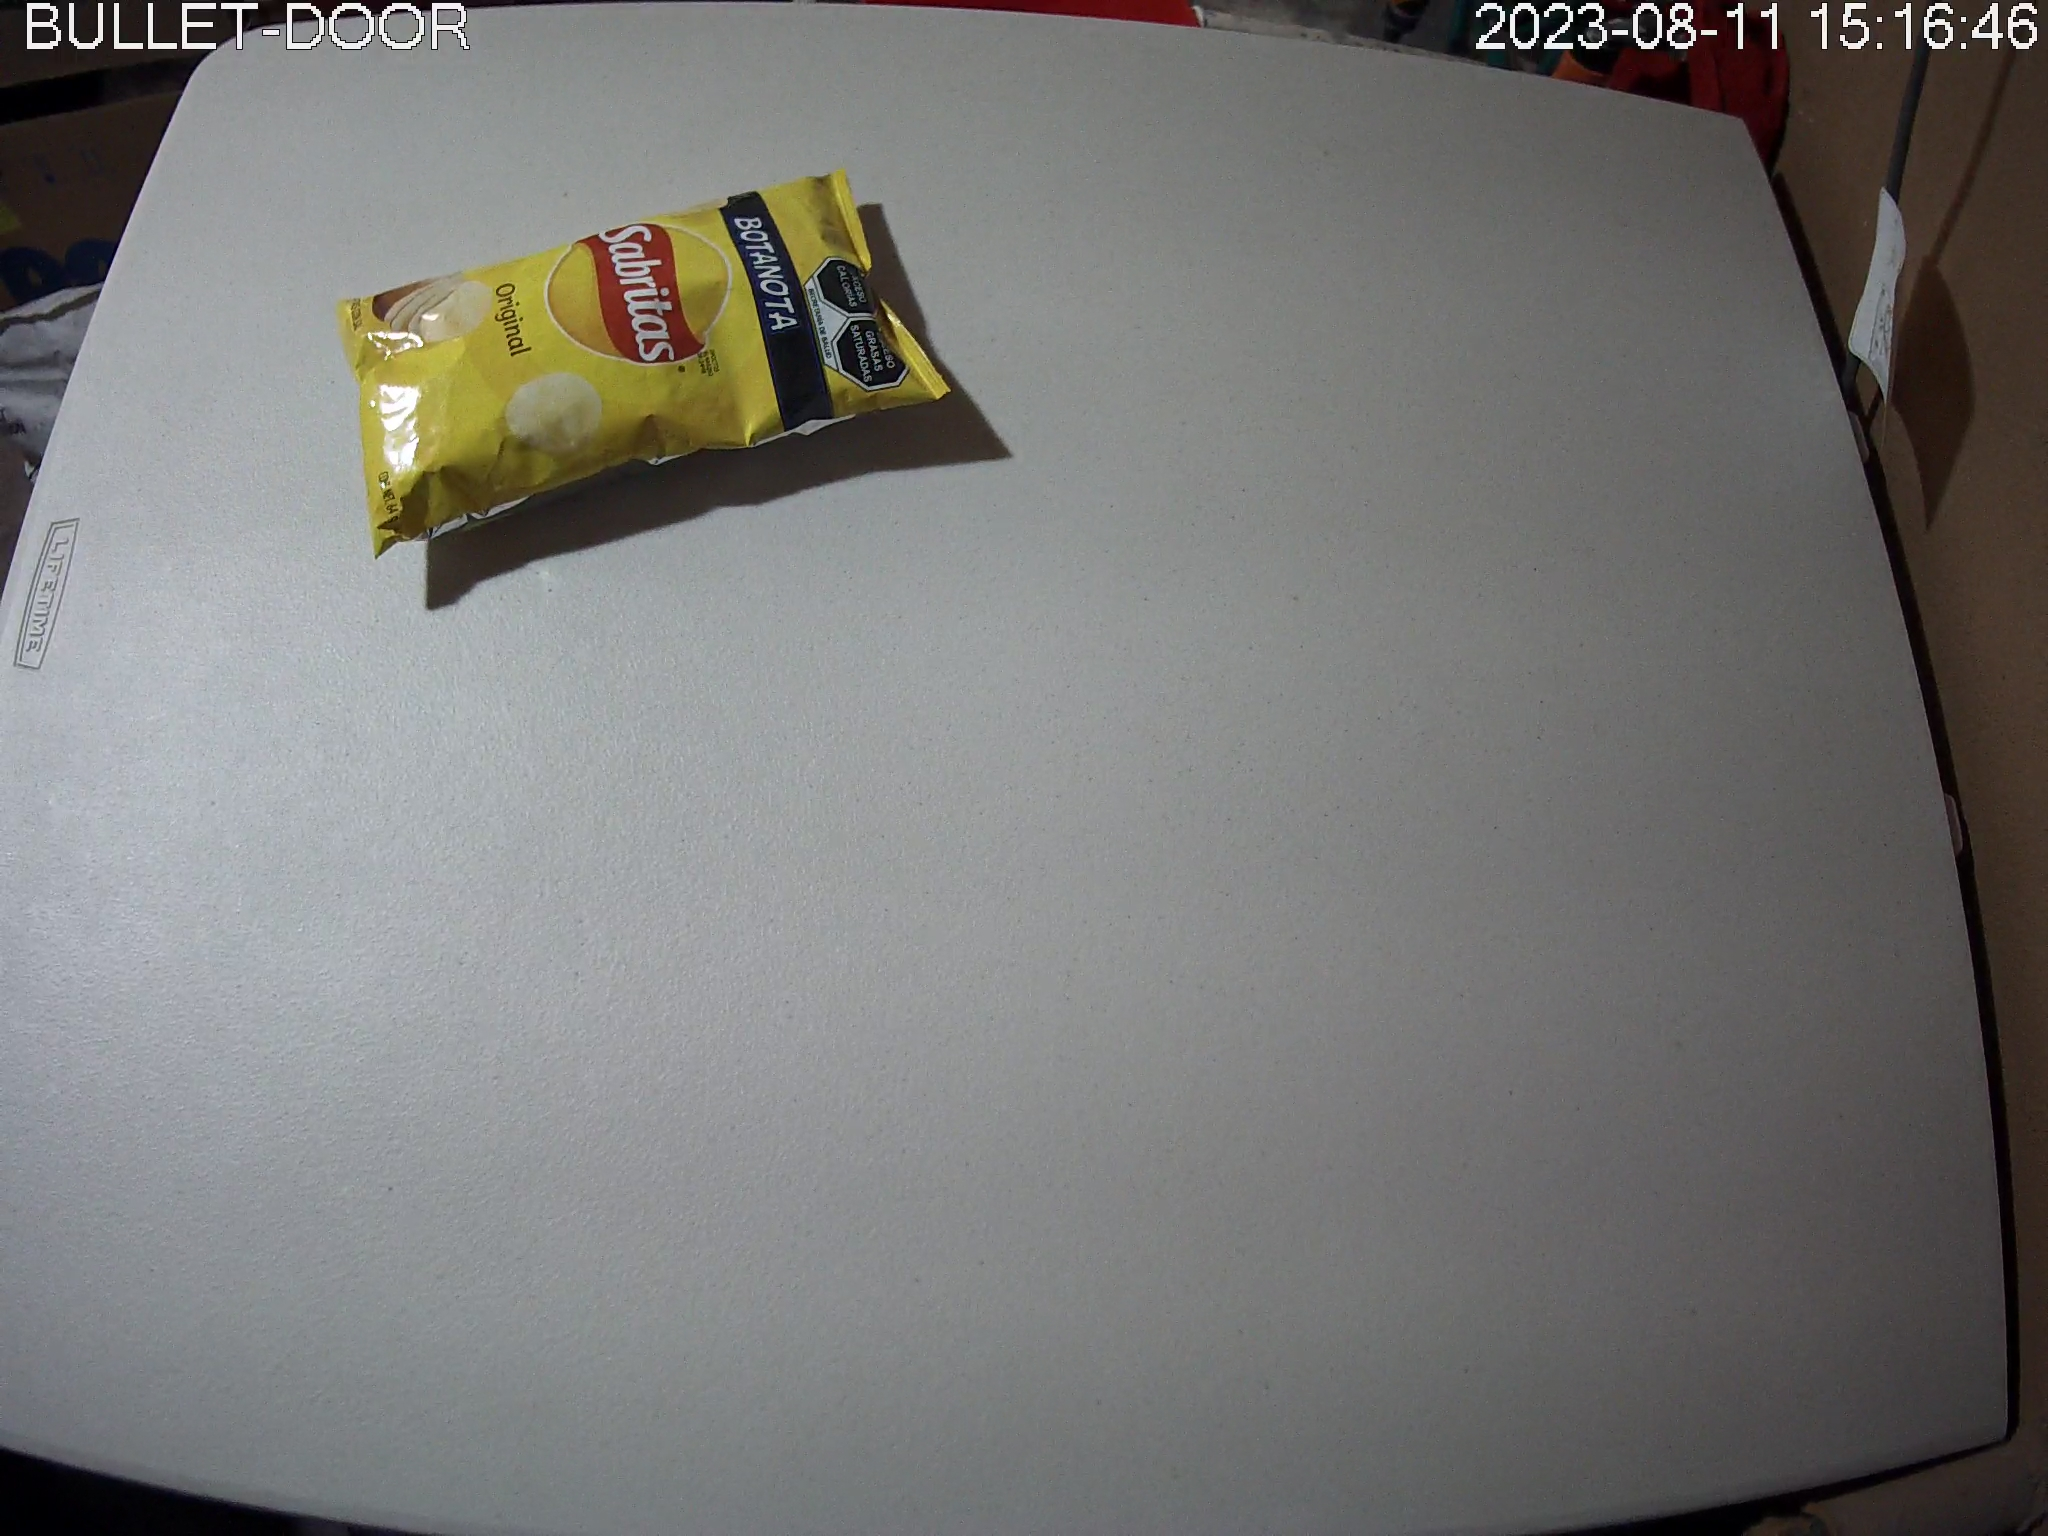Sabritas_64_F: (335, 168, 956, 565)
